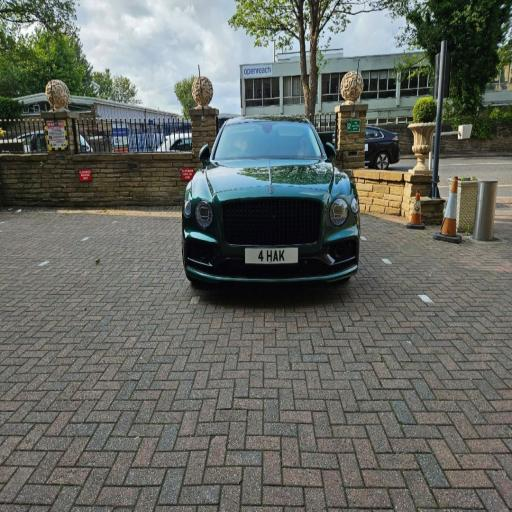numberplates: (245, 248, 298, 264)
